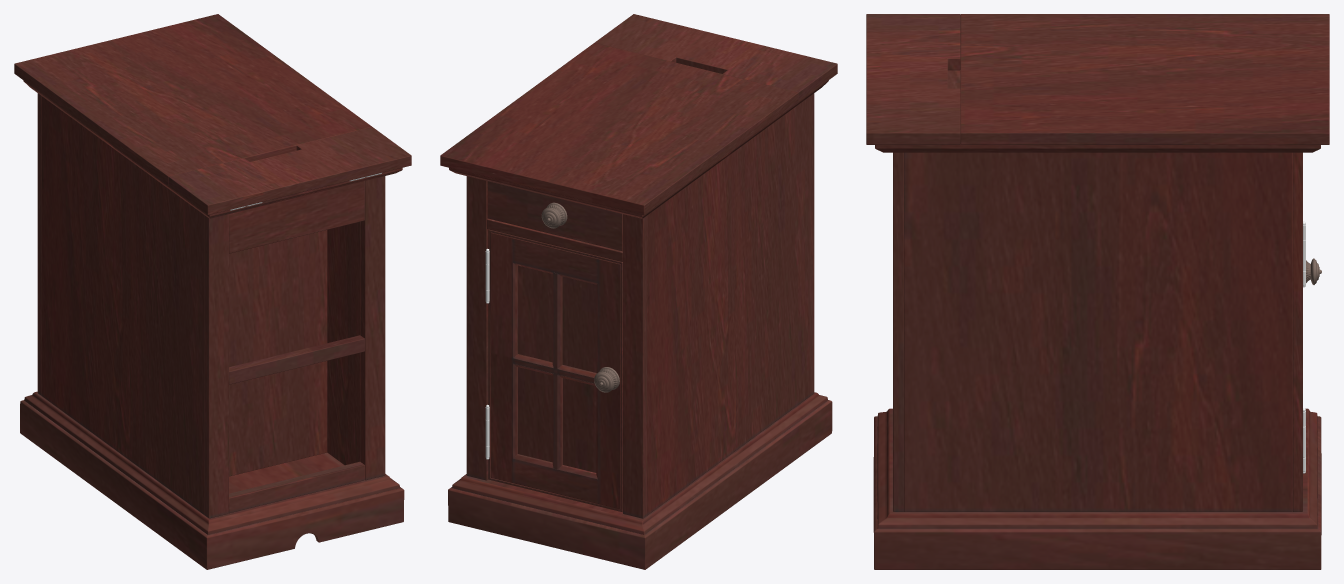
The model's file is abo_B07H2BTCFZ.glb.
3 views of the same model, side by side, from view 1: azimuth 30°, elevation 25°; view 2: azimuth 150°, elevation 25°; view 3: azimuth 270°, elevation 25° (orthographic). The views are drawn at different scales.
Parts seen in each view (by area): view 1: B07H2BTCFZ; view 2: B07H2BTCFZ; view 3: B07H2BTCFZ.
Boxes of the visible parts, <box> form: B07H2BTCFZ: <box>14,14,411,569</box>; B07H2BTCFZ: <box>440,14,837,569</box>; B07H2BTCFZ: <box>866,14,1329,569</box>.
Size of the model in its own units: 0.3556 by 0.6121 by 0.5842.
1 material, 1 textured.
